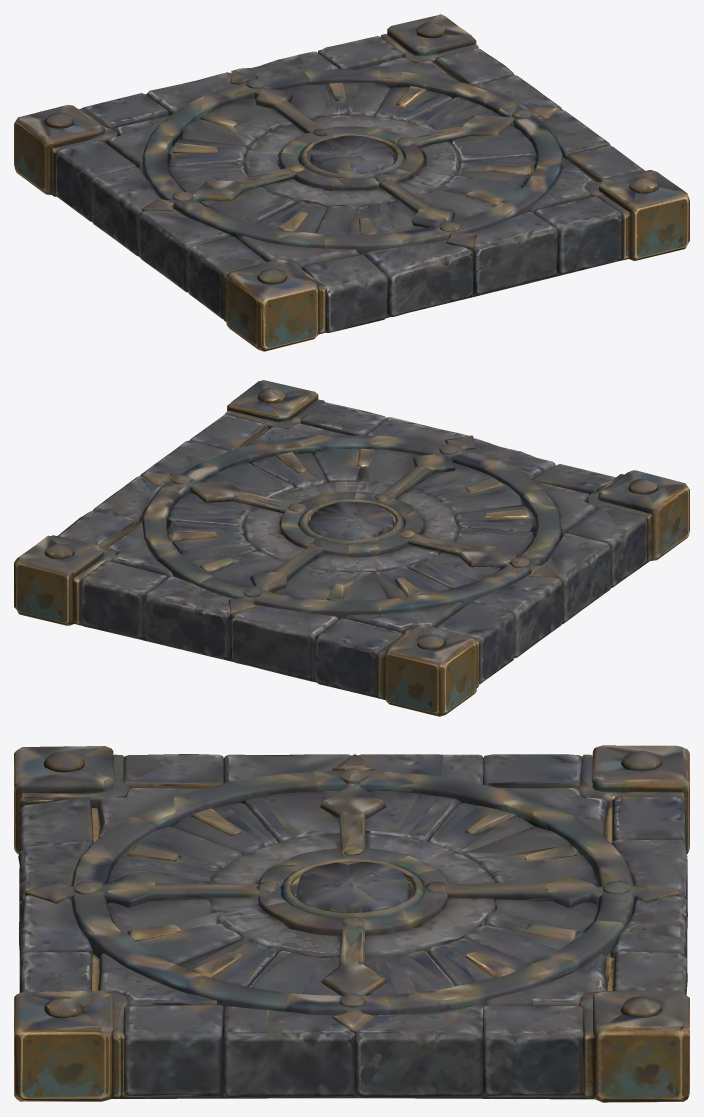
File: tower_floor_plain.glb
3 views of the same model, one above another, from view 1: azimuth 30°, elevation 25°; view 2: azimuth 150°, elevation 25°; view 3: azimuth 270°, elevation 25° (orthographic). The views are drawn at different scales.
Size of the model in its own units: 0.9492 by 0.1406 by 0.9483.
Materials: 1 (1 with a texture image).
